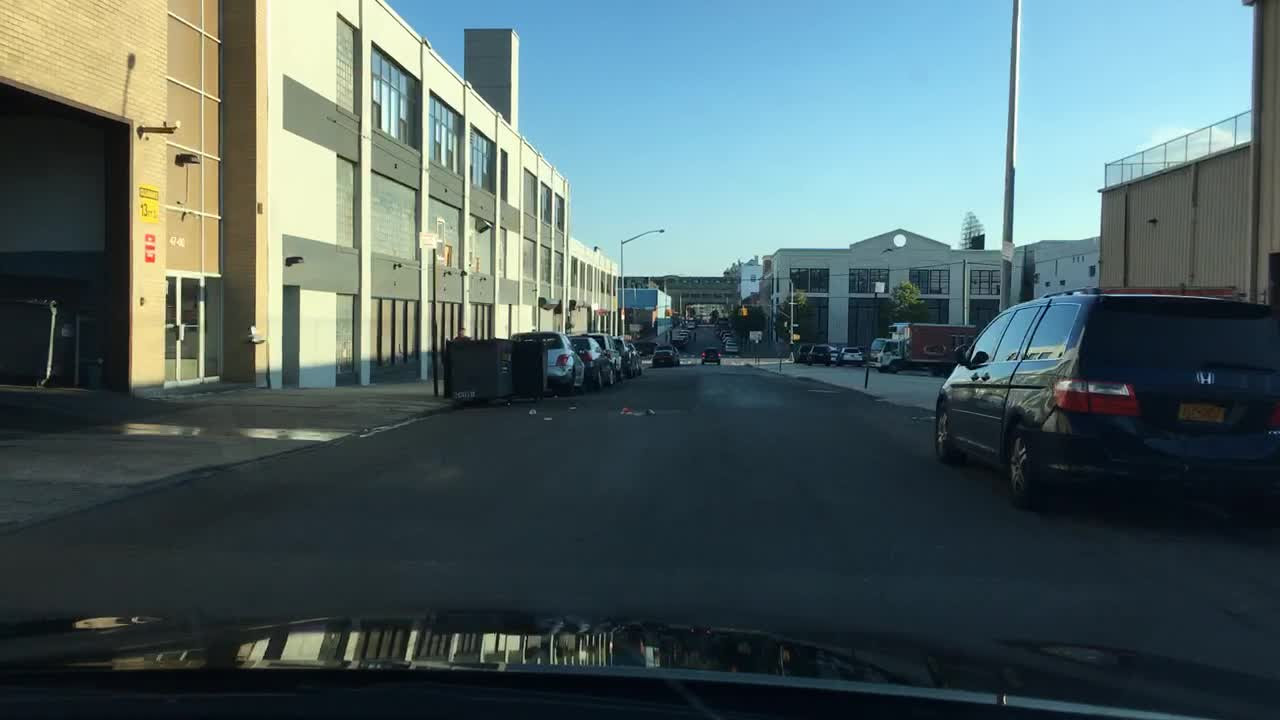car: (930, 290, 1279, 511), (512, 328, 585, 398), (571, 338, 613, 389), (593, 333, 625, 383), (651, 344, 682, 368), (804, 344, 833, 366), (626, 345, 643, 380), (837, 346, 864, 366), (701, 346, 721, 364), (796, 343, 811, 360), (719, 330, 731, 344), (724, 343, 737, 355), (673, 336, 687, 344), (682, 326, 697, 333), (678, 331, 692, 336)
person: (454, 326, 471, 340)
traffic light: (737, 306, 747, 318), (792, 331, 801, 341)
traffic sign: (1000, 239, 1015, 265), (748, 330, 761, 341)
truck: (867, 321, 980, 376)
